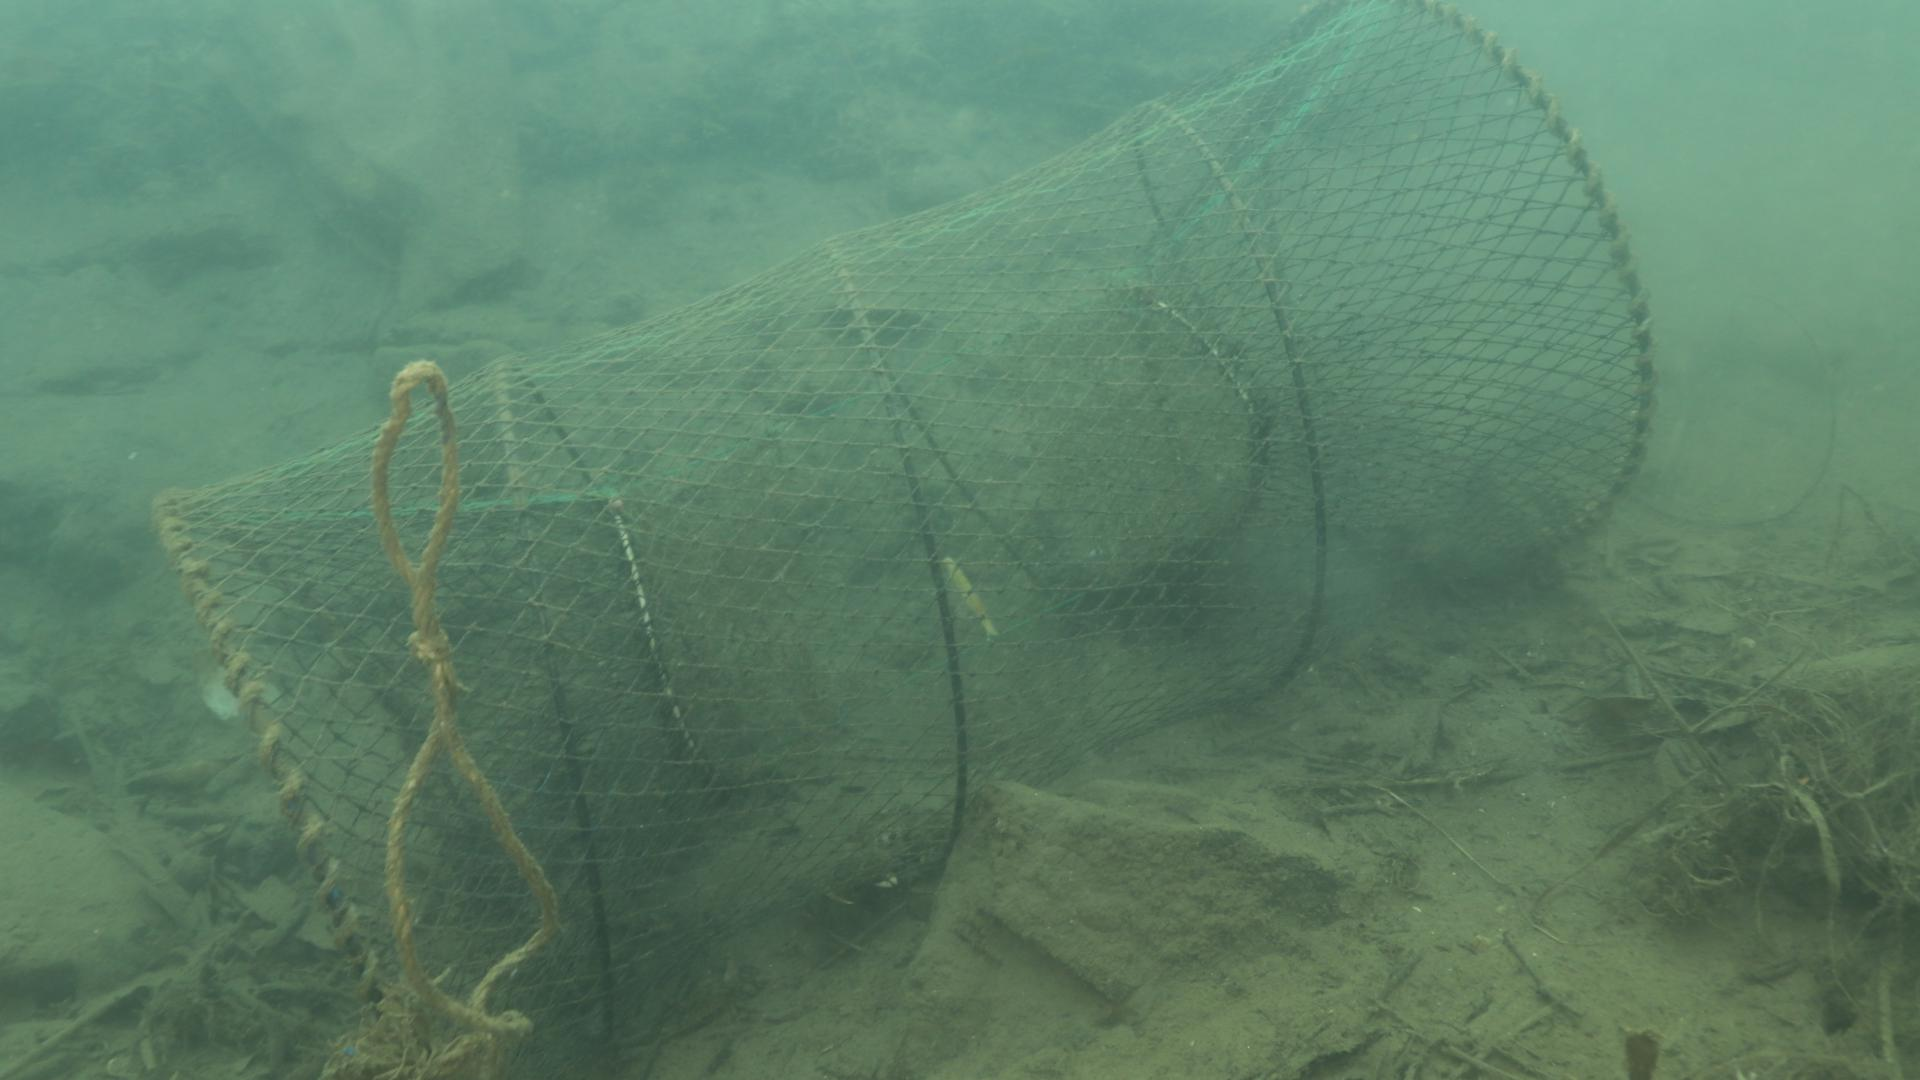bundle of ropes: (345, 355, 578, 1080)
spring fish trap: (146, 0, 1658, 1080)
